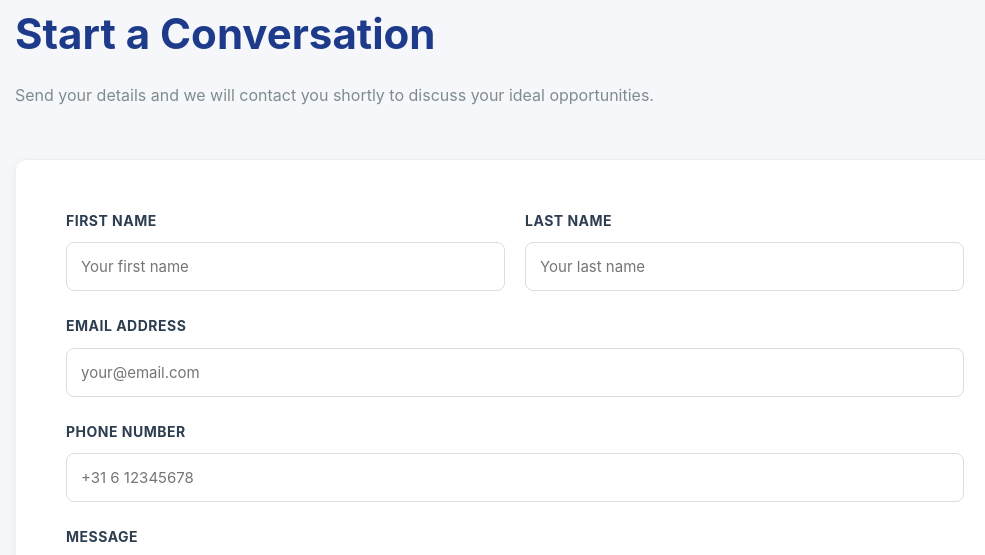
Contact form › clears a field error live once it becomes valid
// Trigger the error first (blur with empty value).
Step 1. Click the field labelled "First Name" → click(286, 267), box [66,242,505,291]
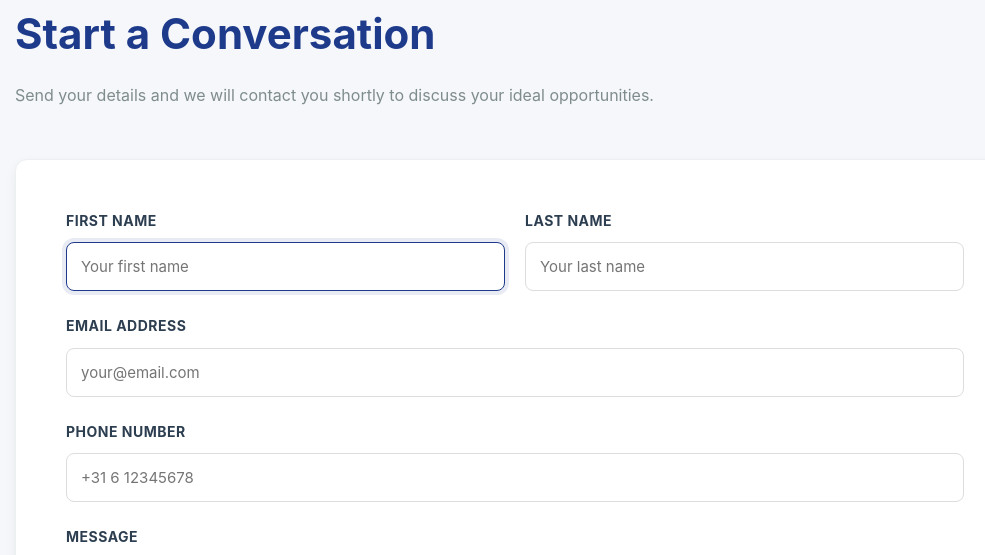
Step 2. Press Tab
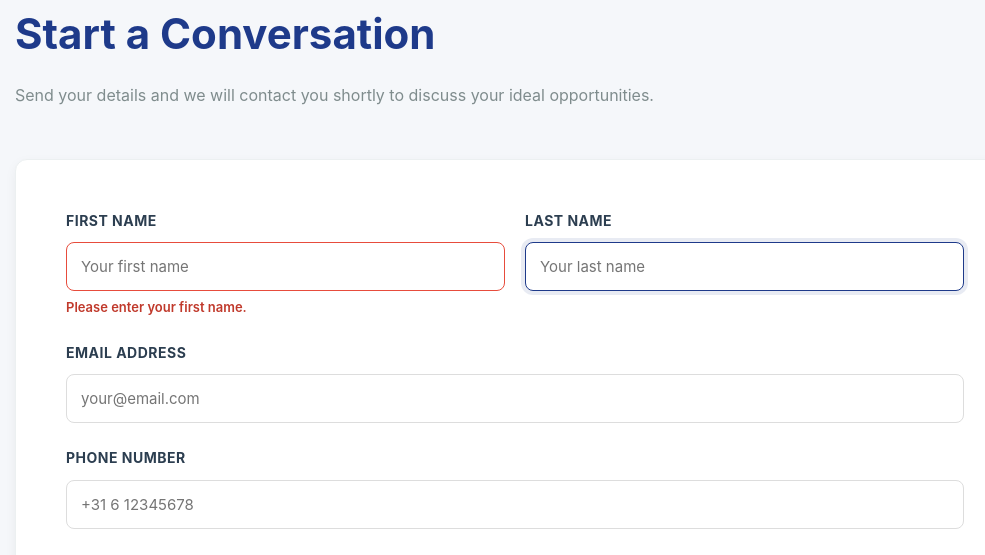
Check: the text "Please enter your first name." is shown, box [66,299,247,315]
// Typing a valid value should remove the error without re-submitting.
Step 3. Type "Jan" into the field labelled "First Name" → (286, 267), box [66,242,505,291]
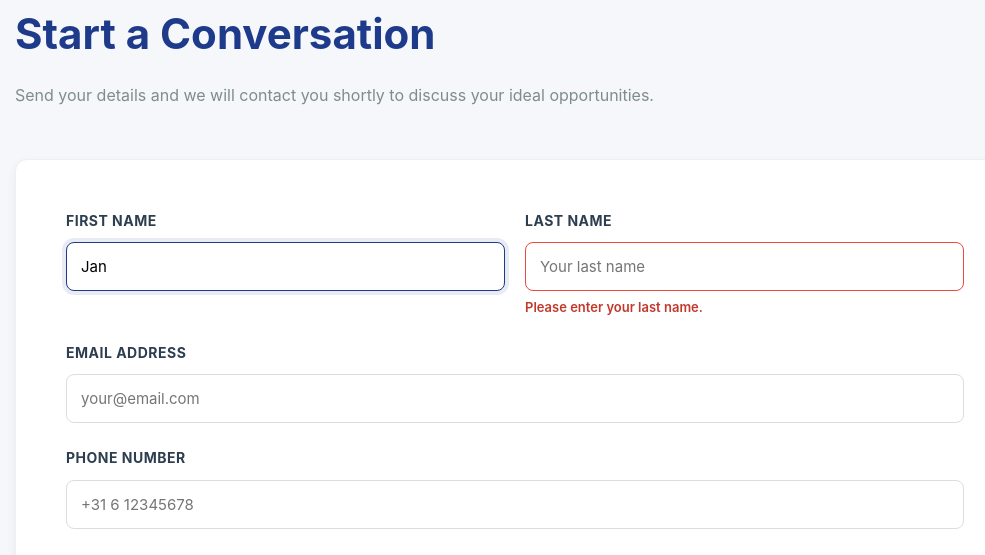
Check: the text "Please enter your first name." is gone
